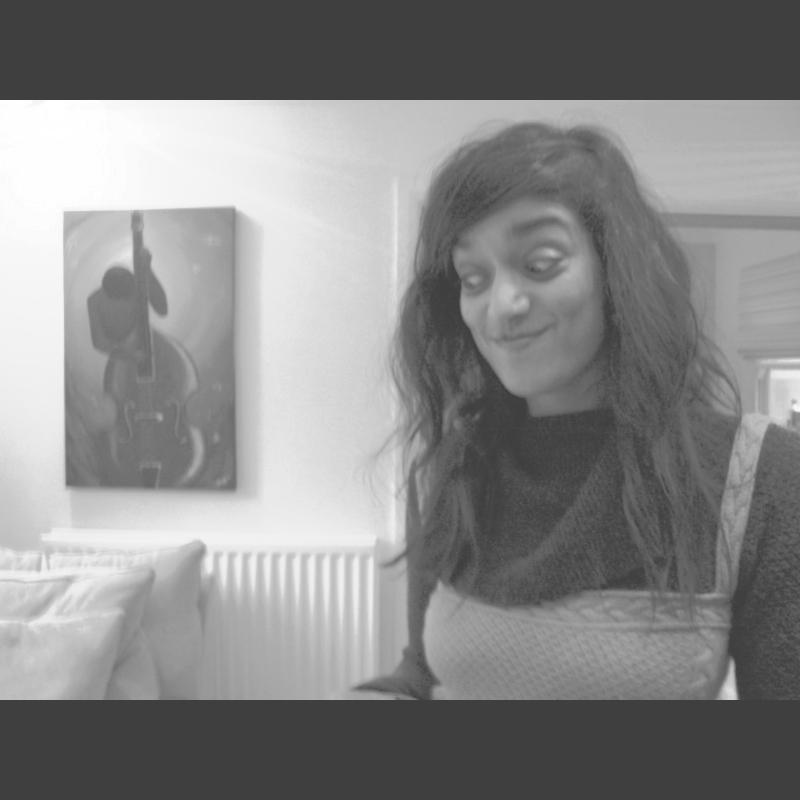pillow: (5, 542, 205, 698), (1, 565, 160, 699)
